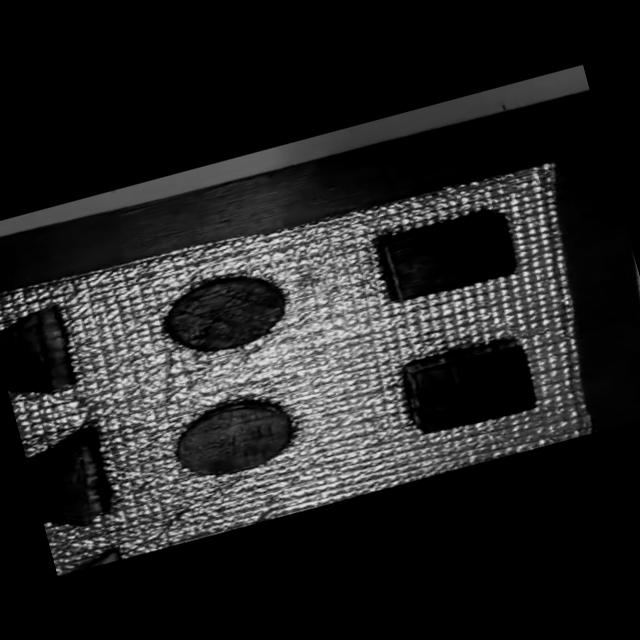bcircle: (398, 332, 542, 439), (151, 262, 296, 366)
bcube: (373, 205, 524, 308)
btriangle: (0, 306, 72, 402)
rcircle: (176, 402, 292, 475)
rtriangle: (23, 428, 118, 536)
wb: (0, 149, 599, 574)
